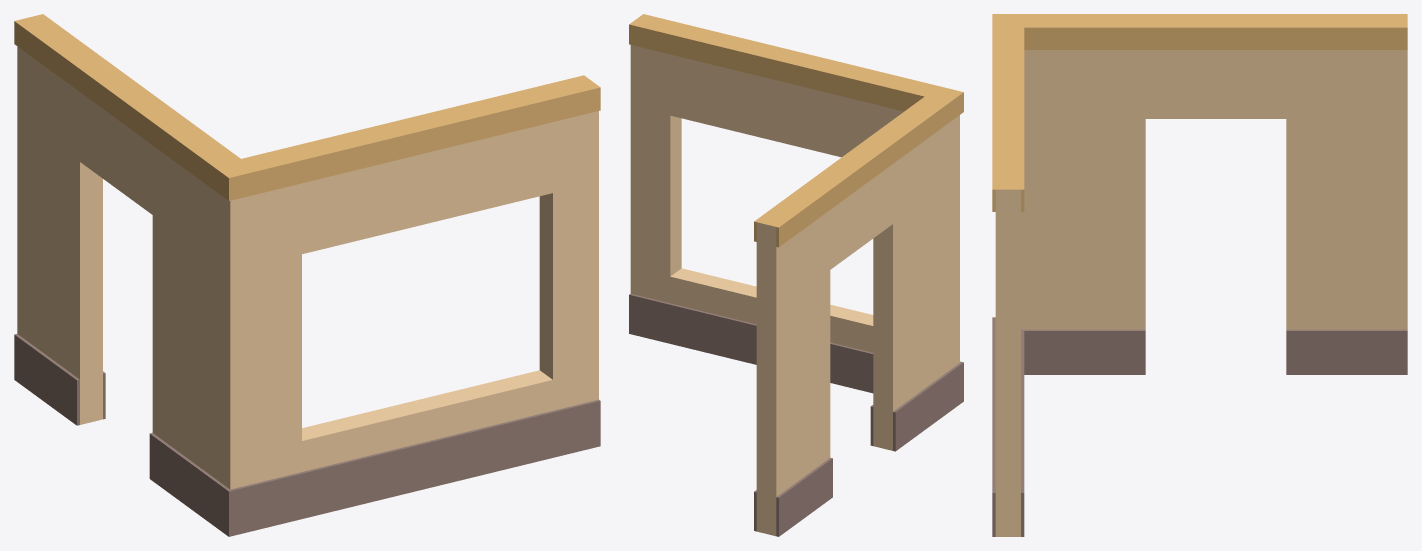
The model's file is Wall05-02.fbx.
The picture shows the model from 3 angles, left to right: view 1: azimuth 30°, elevation 25°; view 2: azimuth 150°, elevation 25°; view 3: azimuth 270°, elevation 25°; orthographic projection. The views are drawn at different scales.
Parts seen in each view (by area): view 1: Wall05-02; view 2: Wall05-02; view 3: Wall05-02.
Boxes of the visible parts, left/top/right/bottom form: Wall05-02: left=14, top=14, right=600, bottom=536; Wall05-02: left=629, top=14, right=963, bottom=536; Wall05-02: left=992, top=14, right=1407, bottom=536.
Size of the model in its own units: 3.25 by 3.25 by 3.
